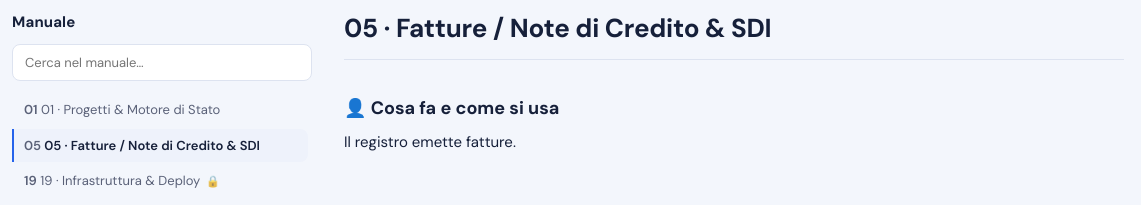
AiutoPage — la ricerca › trova una parola e mostra il rigo che la contiene
Step 1. Type "anagrafica" into the search field labelled "Cerca nel manuale…" → point(162, 62), box [12,44,312,81]
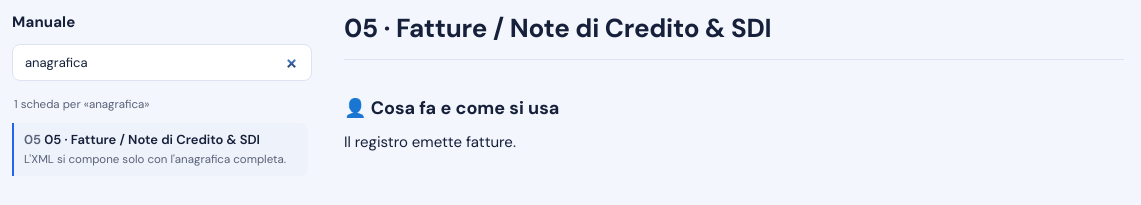
Expected: the text "1 scheda per «anagrafica»" is shown, [14,97,150,112]
Expected: the text "L'XML si compone solo con l'anagrafica completa." is shown, [24,152,286,168]
